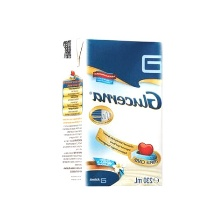carton: (58, 34, 166, 187)
